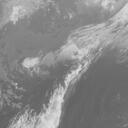cyclone: (42, 28, 96, 89)
